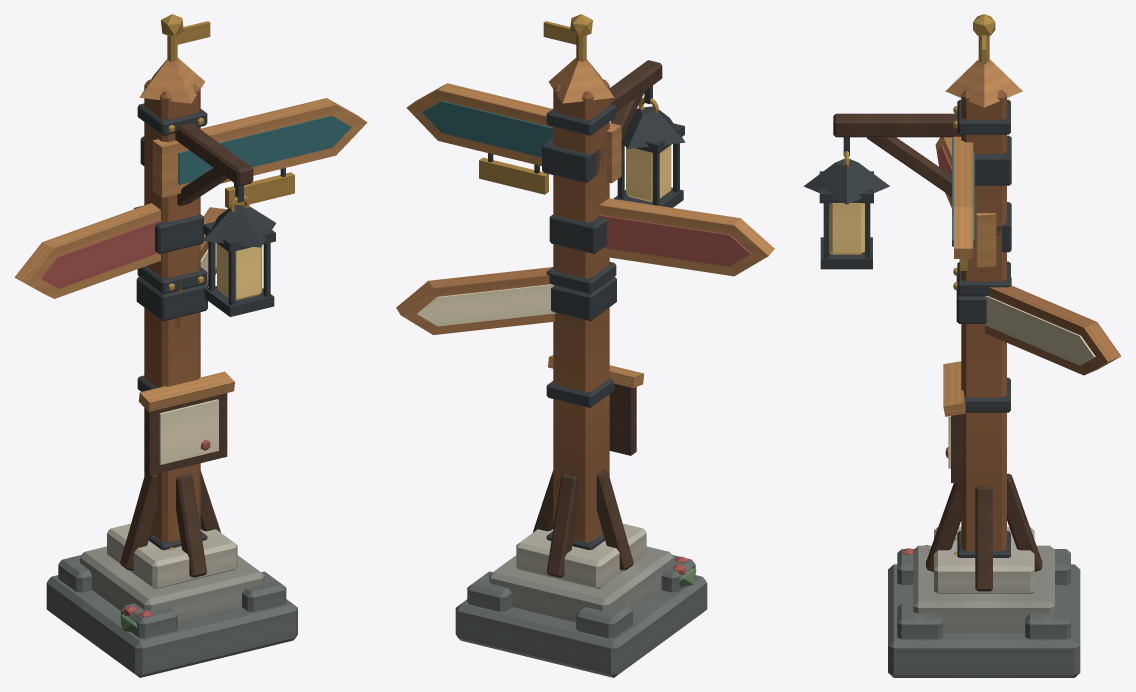
The model's file is signpost_wayfarer.glb.
3 views of the same model, side by side, from view 1: azimuth 30°, elevation 25°; view 2: azimuth 150°, elevation 25°; view 3: azimuth 270°, elevation 25° (orthographic). The views are drawn at different scales.
Visible parts, largest first — view 1: signpost_wayfarer; view 2: signpost_wayfarer; view 3: signpost_wayfarer.
Part boxes in pixels (<box>): signpost_wayfarer: <box>14,14,367,677</box>; signpost_wayfarer: <box>396,14,774,677</box>; signpost_wayfarer: <box>803,14,1120,677</box>.
Bounding box in the file's own units: 1.82 × 3.02 × 1.39.
1 material, 1 textured.
